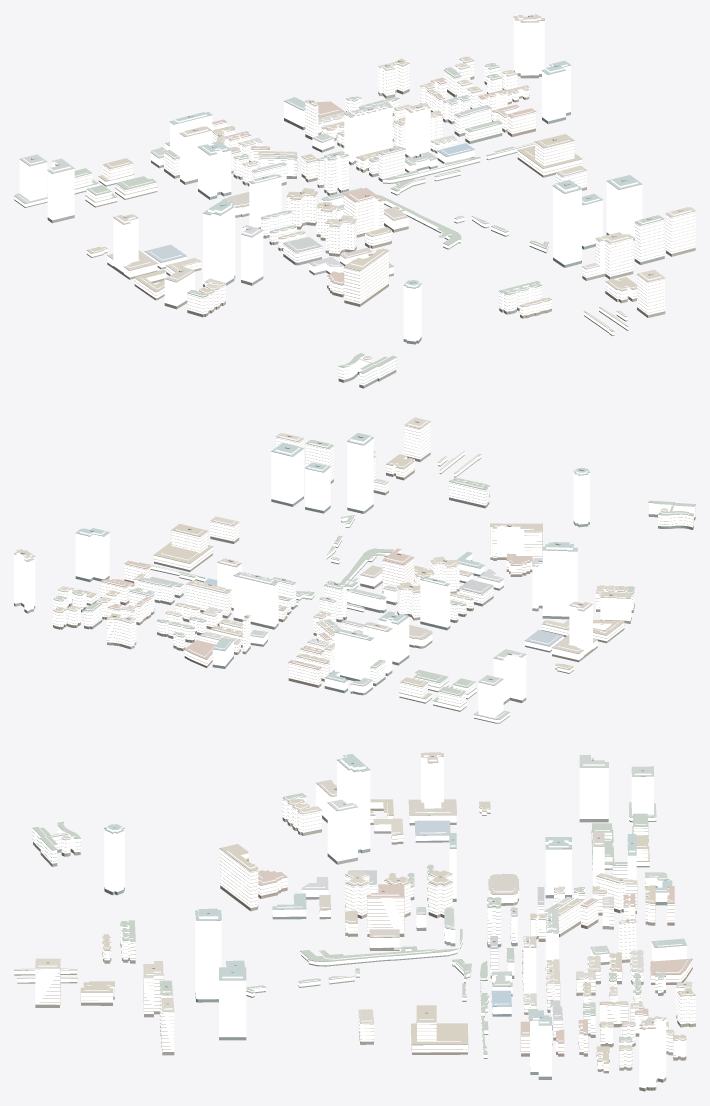
Rendered from buildings-3_3-fine.glb.
3 views of the same model, one above another, from view 1: azimuth 30°, elevation 25°; view 2: azimuth 150°, elevation 25°; view 3: azimuth 270°, elevation 25° (orthographic). The views are drawn at different scales.
Parts seen in each view (by area): view 1: block_3_3_residential, block_3_3_office, block_3_3_roof, block_3_3_darkglass, block_3_3_concrete, block_3_3_steel; view 2: block_3_3_residential, block_3_3_office, block_3_3_roof, block_3_3_darkglass, block_3_3_concrete, block_3_3_steel; view 3: block_3_3_roof, block_3_3_residential, block_3_3_office, block_3_3_darkglass, block_3_3_concrete, block_3_3_steel.
Boxes of the visible parts, x1,y1,x2,y2 form: block_3_3_residential: (14,57,695,385); block_3_3_office: (19,15,642,341); block_3_3_roof: (14,14,695,384); block_3_3_darkglass: (14,70,695,388); block_3_3_concrete: (14,58,695,383); block_3_3_steel: (20,17,642,288); block_3_3_residential: (53,421,695,722); block_3_3_office: (14,436,631,718); block_3_3_roof: (14,417,695,719); block_3_3_darkglass: (14,452,695,723); block_3_3_concrete: (53,421,694,719); block_3_3_steel: (14,438,630,686); block_3_3_roof: (14,752,695,1070); block_3_3_residential: (14,796,695,1070); block_3_3_office: (104,755,686,1088); block_3_3_darkglass: (14,808,695,1091); block_3_3_concrete: (14,796,695,1065); block_3_3_steel: (104,755,686,1029).
Bounding box in the file's own units: 665 × 93.22 × 672.
